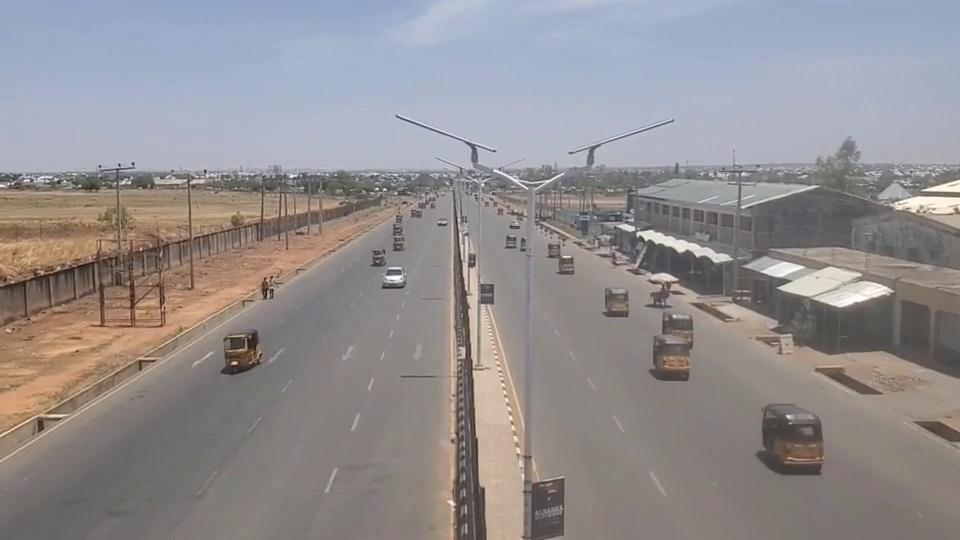keke: (760, 402, 824, 472), (222, 328, 262, 372)
